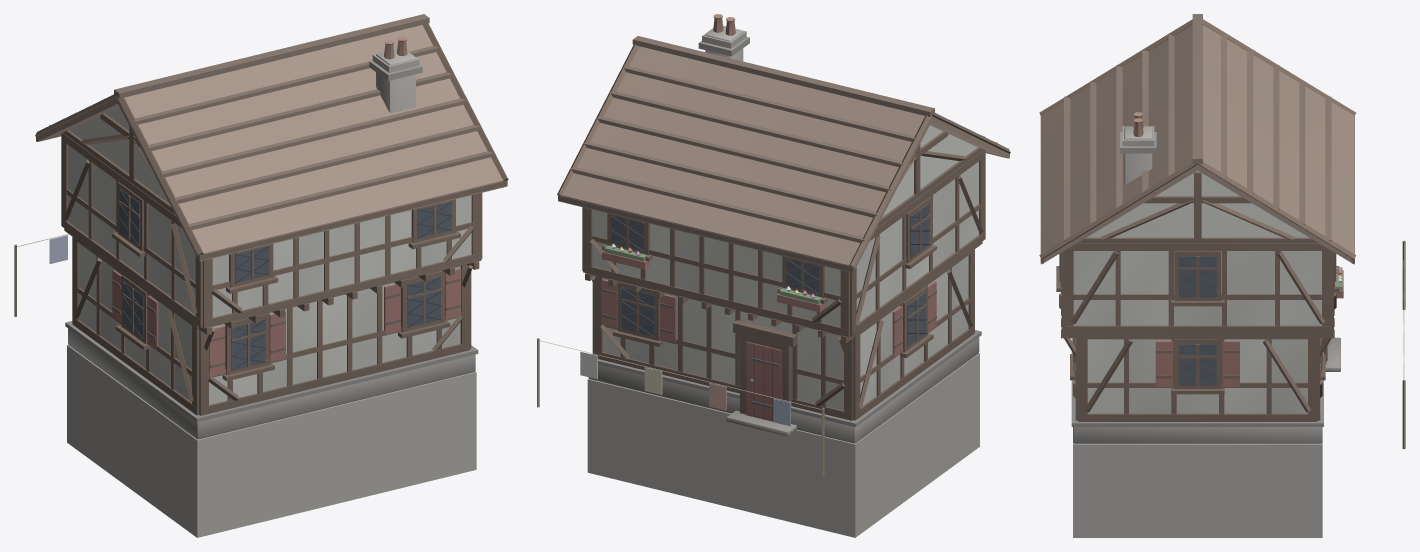
File: house_1_2.gltf
The picture shows the model from 3 angles, left to right: view 1: azimuth 30°, elevation 25°; view 2: azimuth 150°, elevation 25°; view 3: azimuth 270°, elevation 25°; orthographic projection. The views are drawn at different scales.
Visible parts, largest first — view 1: Body; view 2: Body; view 3: Body.
Part boxes in pixels (x1,y1,x2,y2): Body: [14, 14, 508, 537]; Body: [537, 14, 1010, 537]; Body: [1039, 14, 1405, 537].
Bounding box in the file's own units: 8.67 × 11.1 × 9.24.
